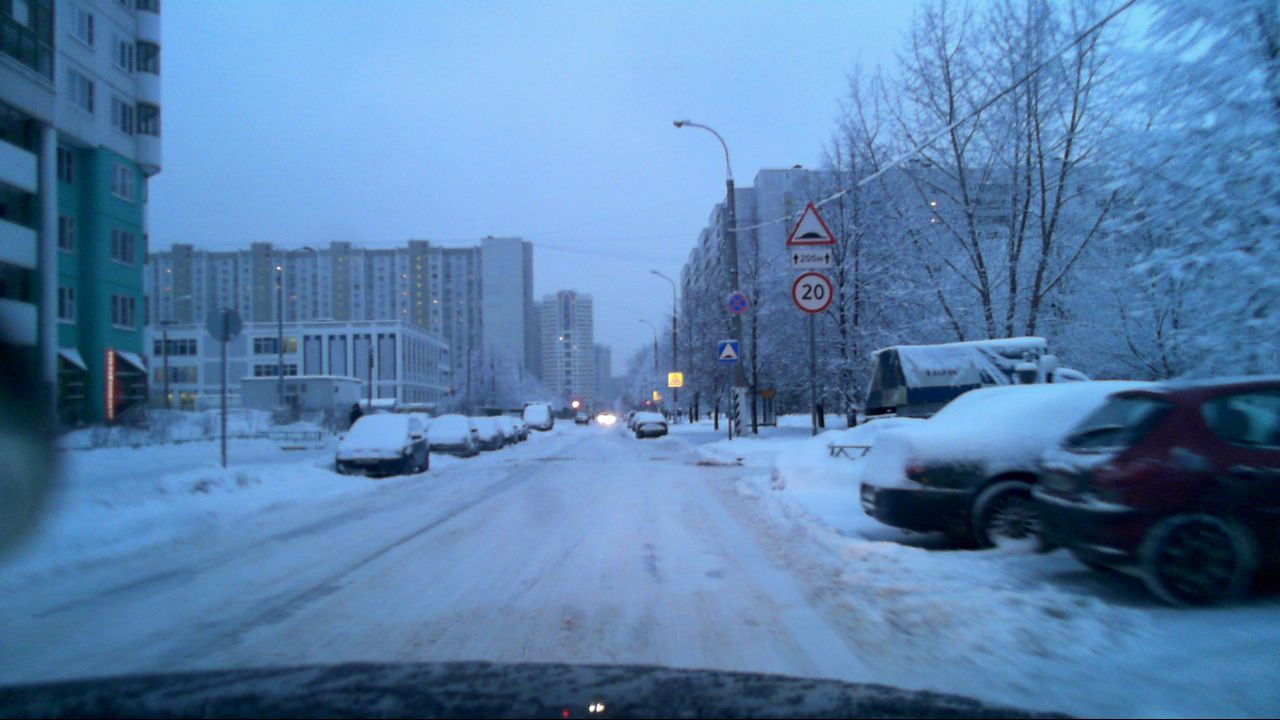No Parking: (725, 289, 753, 314)
